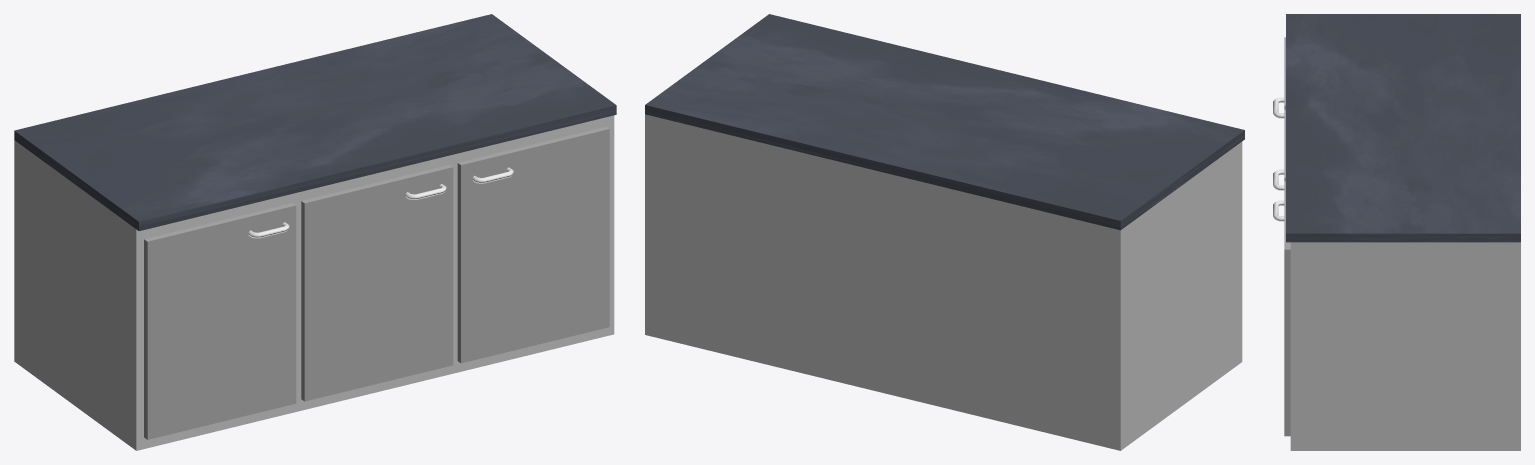
File: kitchencounter.fbx
3 renders of one model, left to right at view 1: azimuth 30°, elevation 25°; view 2: azimuth 150°, elevation 25°; view 3: azimuth 270°, elevation 25°, orthographic. The views are drawn at different scales.
Parts seen in each view (by area): view 1: Top, Table, Door.002, Door, Door.001; view 2: Table, Top; view 3: Top, Table, Door.002.
Part boxes in pixels (box(x1,y1,x2,y2)): Top: box(14, 14, 616, 231); Table: box(14, 115, 614, 450); Door.002: box(457, 126, 609, 363); Door: box(144, 203, 296, 439); Door.001: box(301, 164, 453, 401); Table: box(645, 114, 1242, 450); Top: box(645, 14, 1244, 230); Top: box(1286, 14, 1520, 242); Table: box(1290, 242, 1520, 450); Door.002: box(1284, 181, 1290, 436).
Size of the model in its own units: 451 by 208 by 215.
